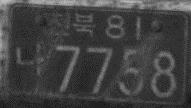1: (133, 15, 143, 43)
5: (116, 48, 145, 96)
7: (83, 46, 113, 96), (54, 44, 81, 94)
8: (150, 50, 177, 99), (105, 14, 125, 40)
나: (15, 42, 44, 77)
전북_O: (48, 11, 95, 39)
